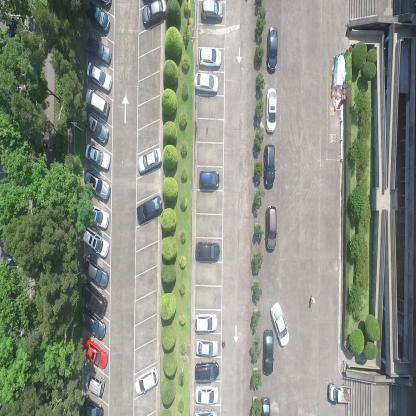car: (80, 280, 108, 316), (270, 300, 290, 348), (78, 306, 106, 340), (83, 109, 109, 145), (82, 226, 110, 259), (81, 336, 108, 370), (136, 192, 162, 227), (83, 170, 111, 202), (86, 60, 112, 94), (83, 256, 109, 288), (84, 88, 110, 120), (86, 0, 110, 34), (84, 142, 111, 171), (85, 37, 111, 66), (134, 365, 159, 395), (136, 148, 162, 176), (86, 201, 110, 231), (140, 0, 166, 26), (262, 142, 276, 190), (193, 70, 218, 96), (83, 369, 105, 398), (264, 204, 277, 252), (266, 24, 278, 72), (264, 87, 276, 135), (262, 328, 274, 376), (194, 242, 220, 264), (327, 382, 352, 404), (79, 394, 104, 416), (199, 46, 222, 69), (194, 361, 219, 382), (198, 170, 221, 192), (200, 0, 223, 20), (194, 313, 217, 332), (196, 385, 219, 404), (195, 338, 218, 356), (259, 395, 270, 415), (193, 408, 218, 416)
